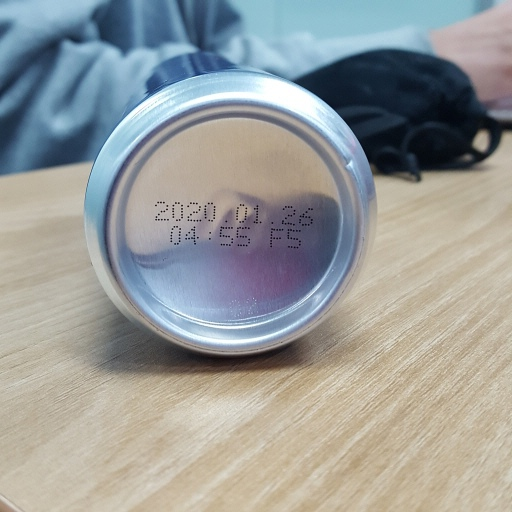Metal_0: (80, 64, 377, 359)
